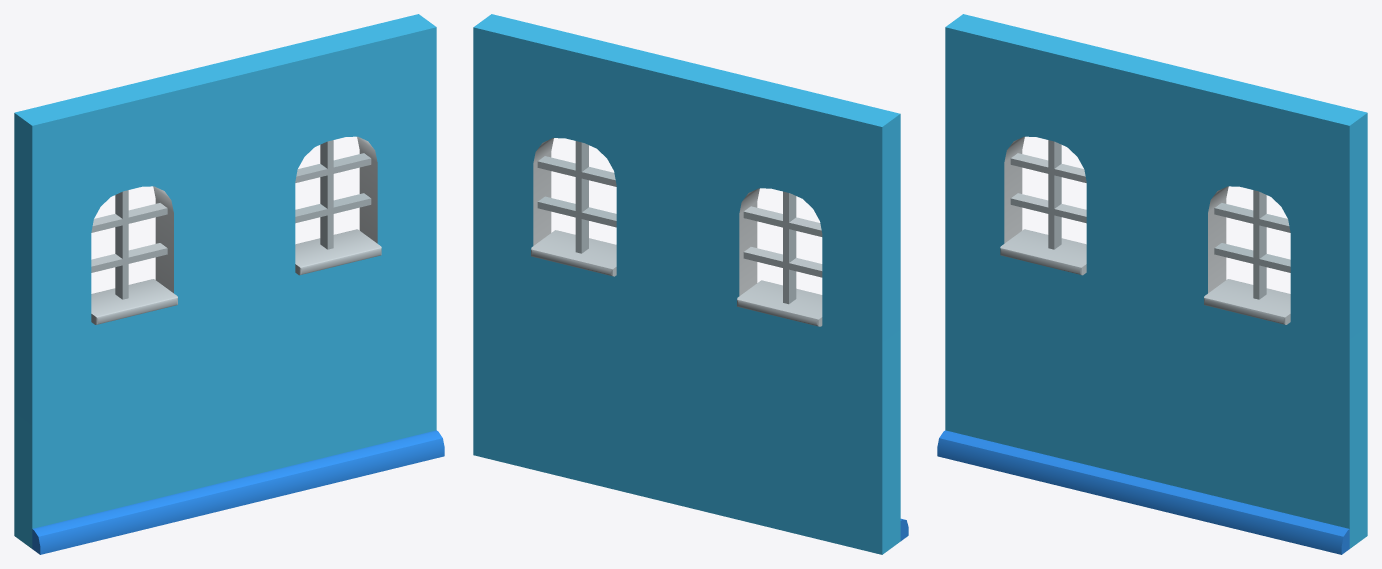
The model's file is B_Wall001.fbx.
The picture shows the model from 3 angles, left to right: view 1: azimuth 30°, elevation 25°; view 2: azimuth 150°, elevation 25°; view 3: azimuth 330°, elevation 25°; orthographic projection.
Parts seen in each view (by area): view 1: Wall001; view 2: Wall001; view 3: Wall001.
Boxes of the visible parts, x1,y1,x2,y2 form: Wall001: (14,14,444,554); Wall001: (473,14,908,554); Wall001: (937,14,1367,554).
Bounding box in the file's own units: 250 × 250 × 31.39.
1 material, 1 textured.
